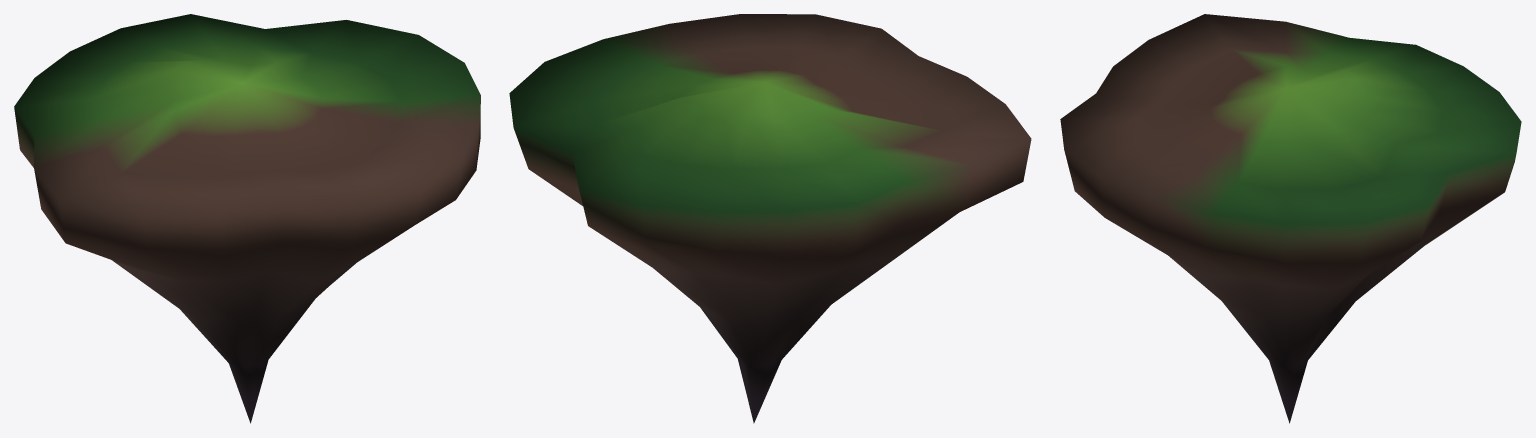
Rendered from island.lod2.glb.
3 renders of one model, left to right at view 1: azimuth 30°, elevation 25°; view 2: azimuth 150°, elevation 25°; view 3: azimuth 270°, elevation 25°, orthographic. The views are drawn at different scales.
Visible parts, largest first — view 1: island_s1_lod2; view 2: island_s1_lod2; view 3: island_s1_lod2.
Part boxes in pixels (bbox=[...]): island_s1_lod2: bbox=[14, 14, 480, 423]; island_s1_lod2: bbox=[509, 14, 1031, 423]; island_s1_lod2: bbox=[1060, 14, 1521, 423].
Bounding box in the file's own units: 10.2 × 7.51 × 9.47.
